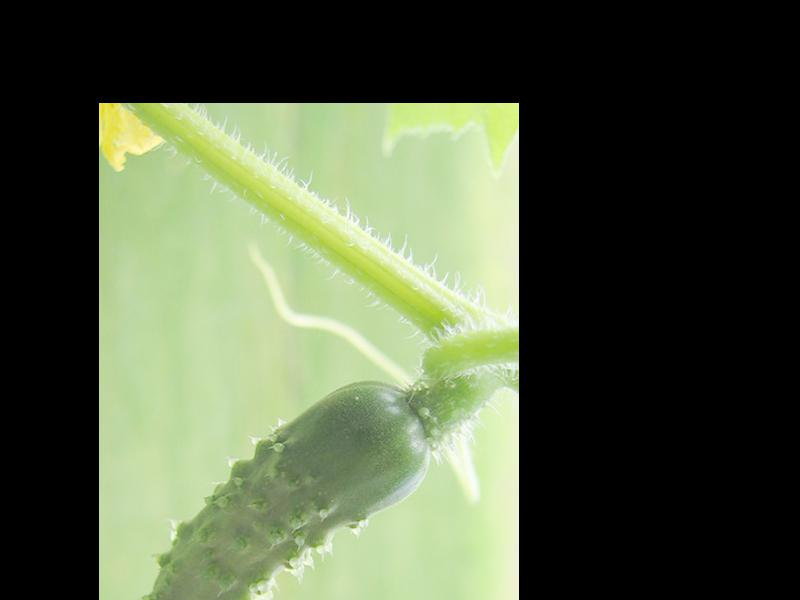Cucumber: (146, 376, 427, 600)
